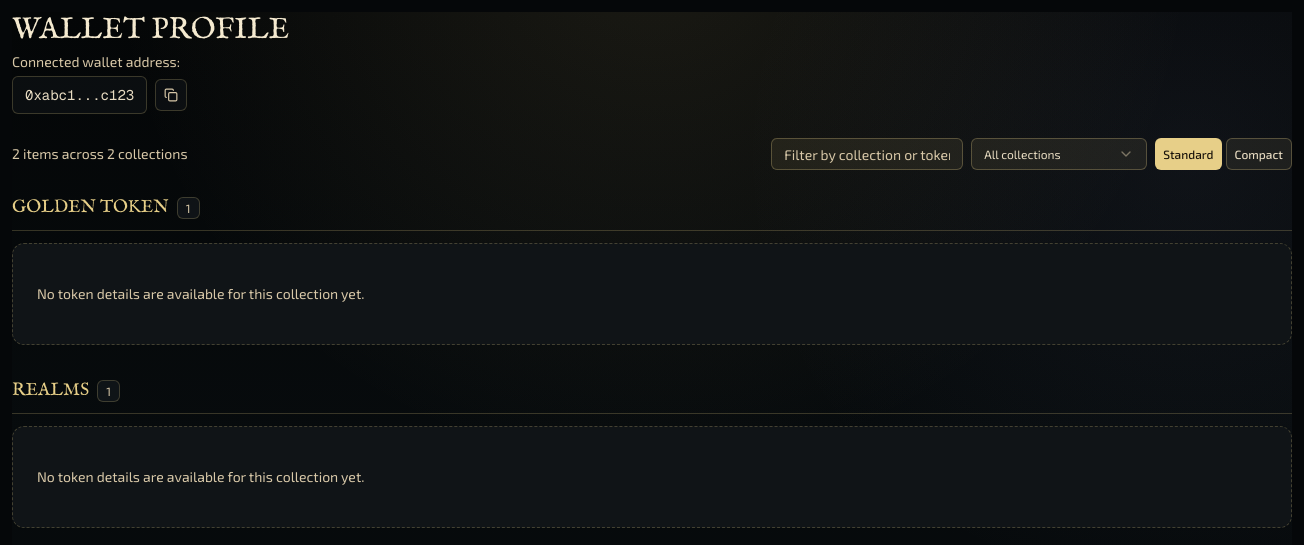
WalletProfileView › filters_items_by_collection_or_token
Type "99" into the field named "filter collection or token".
click(867, 154); type("99")  # box [771, 138, 963, 170]
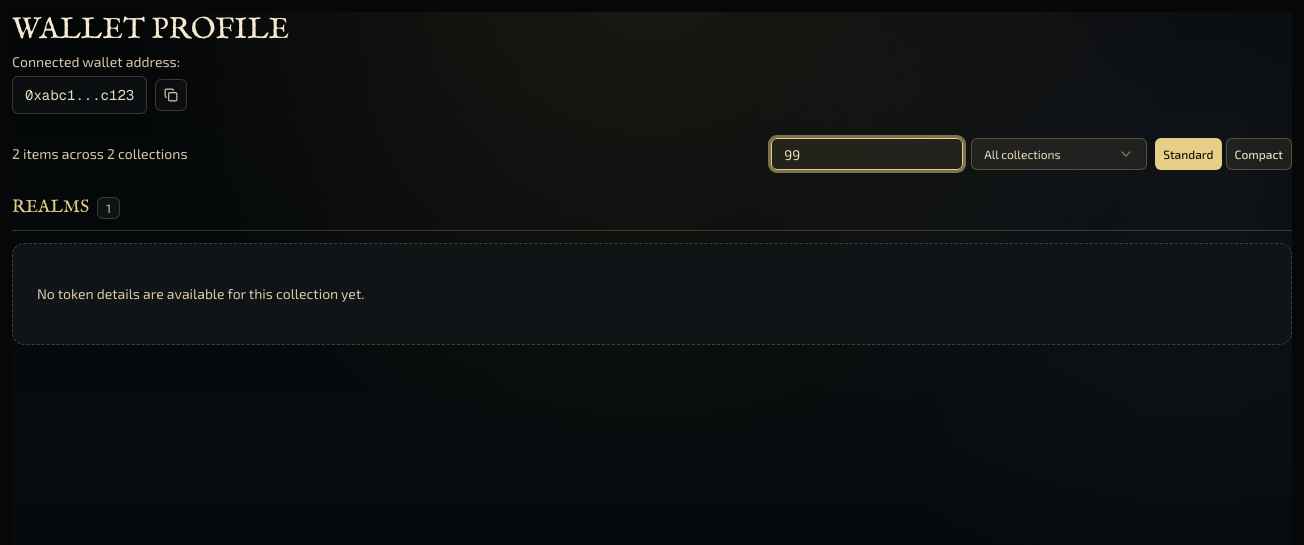
Expected: the heading "Realms" is shown, [12, 194, 89, 222]
Expected: the heading "Golden Token" is gone
